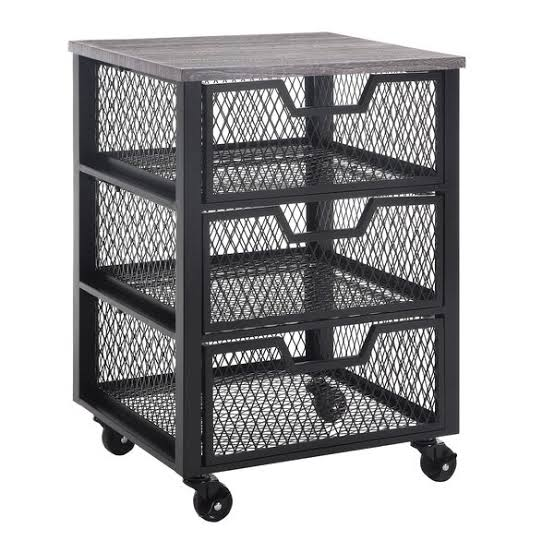Carts: (66, 31, 469, 522)
